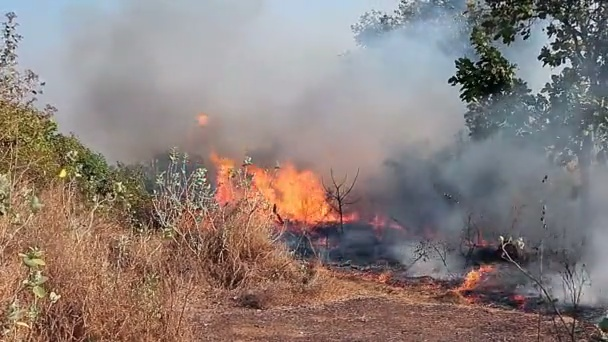fire: (270, 165, 331, 221), (467, 270, 479, 282), (60, 168, 66, 175)
